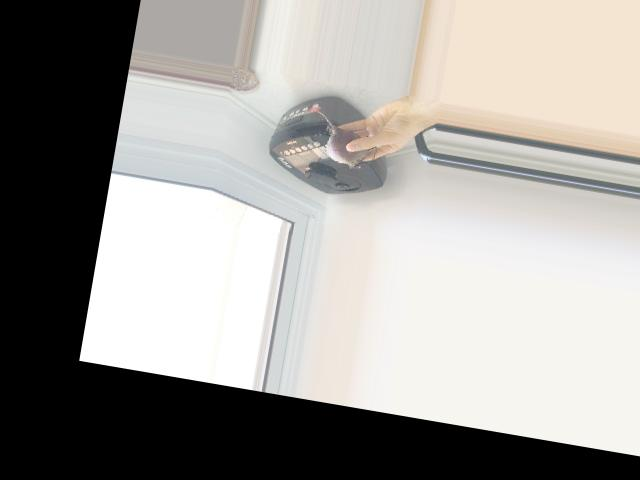beet: (308, 110, 380, 171)
